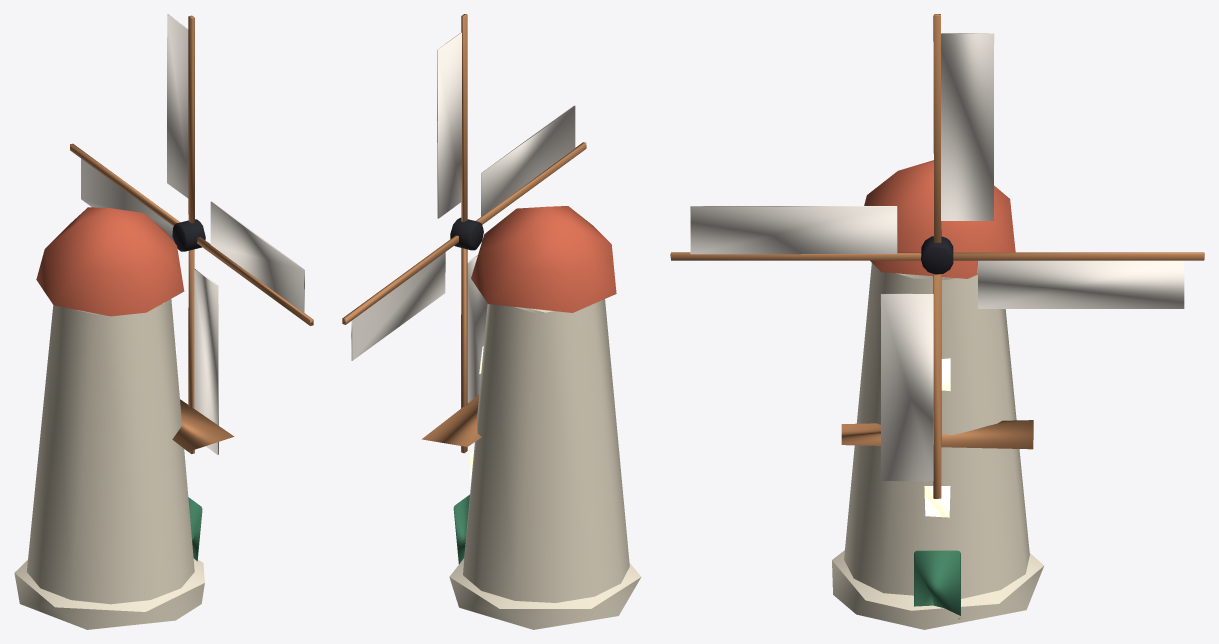
The model's file is windmill.glb.
The picture shows the model from 3 angles, left to right: view 1: azimuth 30°, elevation 25°; view 2: azimuth 150°, elevation 25°; view 3: azimuth 270°, elevation 25°; orthographic projection. The views are drawn at different scales.
Parts seen in each view (by area): view 1: windmill.002, blades.002; view 2: windmill.002, blades.002; view 3: windmill.002, blades.002.
Boxes of the visible parts, x1,y1,x2,y2 form: windmill.002: [14, 207, 234, 629]; blades.002: [70, 14, 313, 454]; windmill.002: [422, 206, 641, 629]; blades.002: [342, 14, 586, 453]; windmill.002: [832, 160, 1044, 629]; blades.002: [670, 14, 1204, 498].
Size of the model in its own units: 6.54 by 20.3 by 15.99.
Materials: 1 (1 with a texture image).
